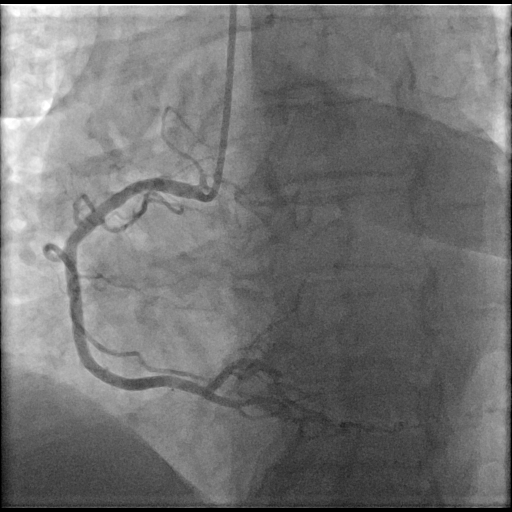RCA: (43, 178, 289, 419)
catherter: (199, 5, 236, 201)
